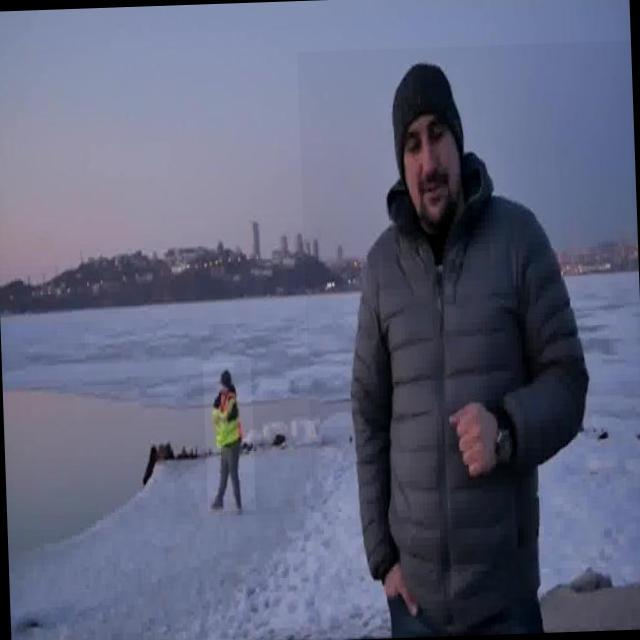Person: (339, 38, 597, 640), (197, 348, 258, 522)
Safety Vest: (213, 389, 241, 454)
bare-arms: (448, 399, 512, 475), (373, 545, 424, 617)
no-helmet: (380, 54, 461, 129), (220, 360, 237, 386)
no-vest: (361, 158, 593, 629)
